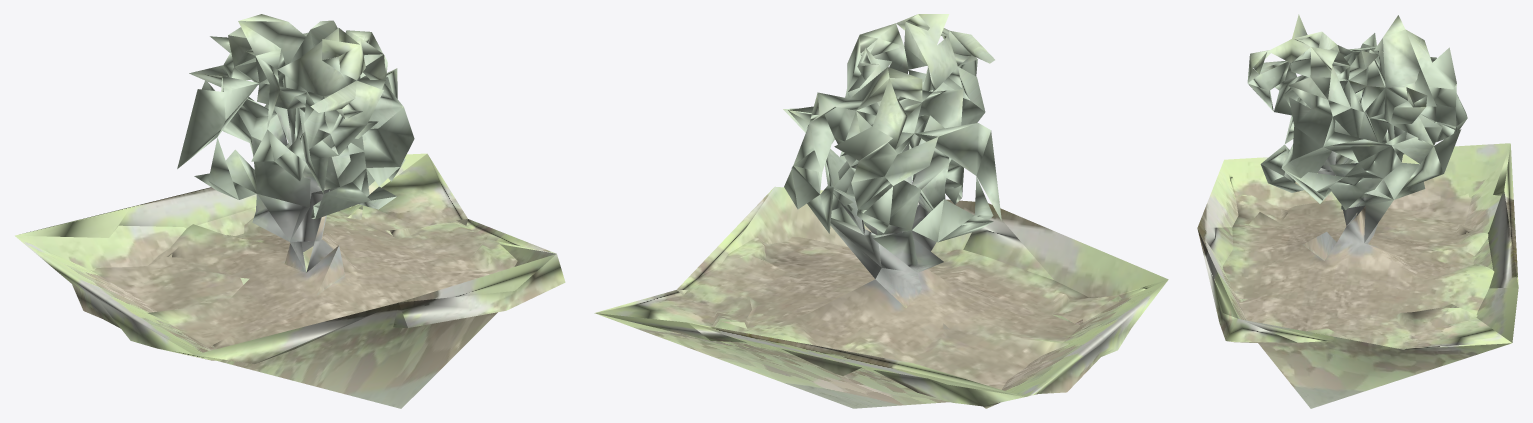
File: street-planter.glb
3 views of the same model, side by side, from view 1: azimuth 30°, elevation 25°; view 2: azimuth 150°, elevation 25°; view 3: azimuth 270°, elevation 25° (orthographic). The views are drawn at different scales.
Visible parts, largest first — view 1: Mesh_0.007; view 2: Mesh_0.007; view 3: Mesh_0.007.
Part boxes in pixels (x1,y1,x2,y2): Mesh_0.007: (15, 14, 565, 408); Mesh_0.007: (594, 14, 1168, 408); Mesh_0.007: (1197, 14, 1518, 408).
Size of the model in its own units: 1.3 by 1.19 by 0.9678.
1 material, 1 textured.
